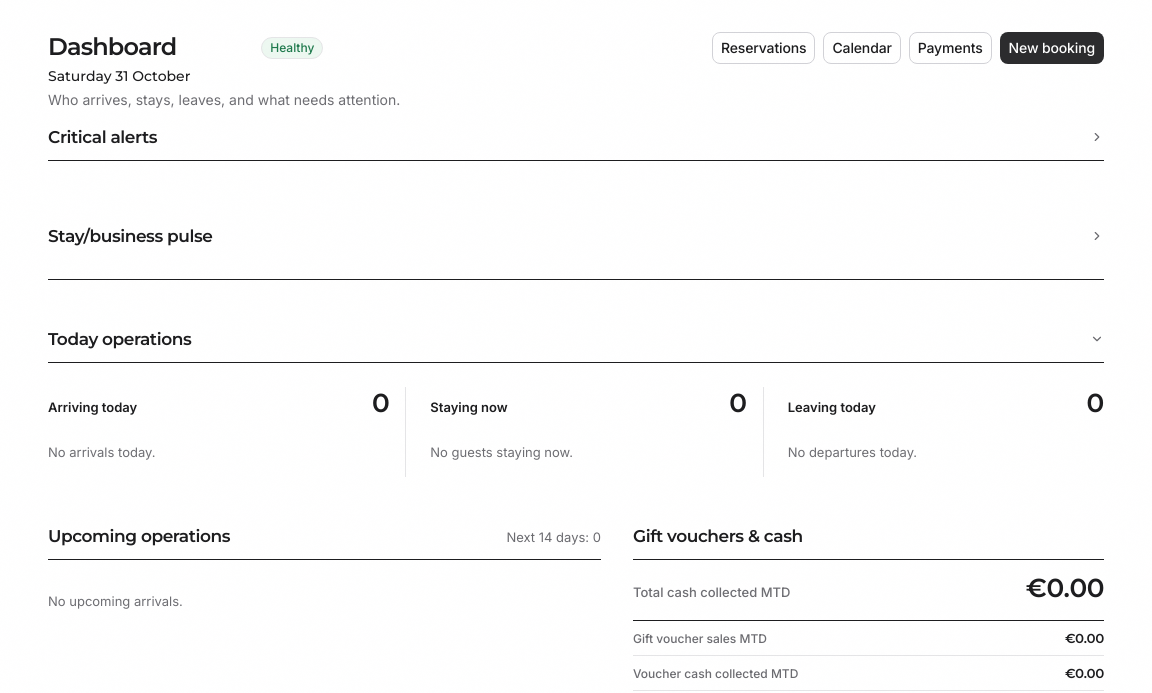
Test: OpsDashboard home migration › keeps Resolve on manual-review alerts and reloads dashboard after the shared note payload
Click the button "Critical alerts" at (103, 137), box top-left (48, 126), bottom-right (1104, 161)
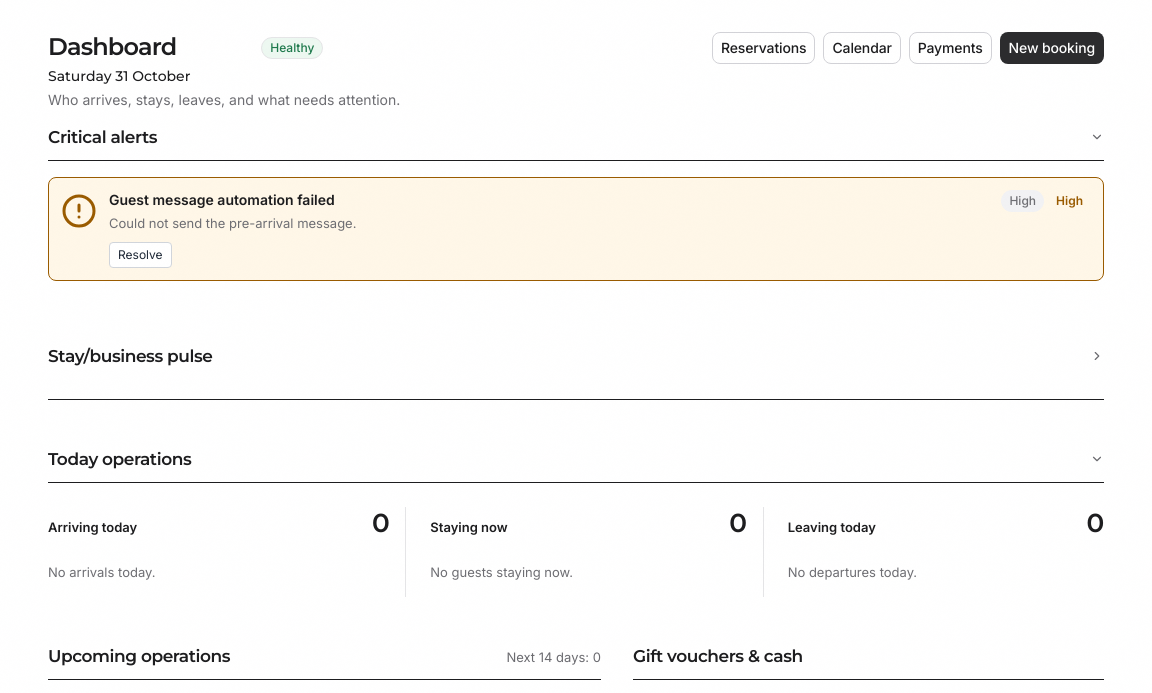
Click the button "Stay/business pulse" at (130, 356), box top-left (48, 345), bottom-right (1104, 367)
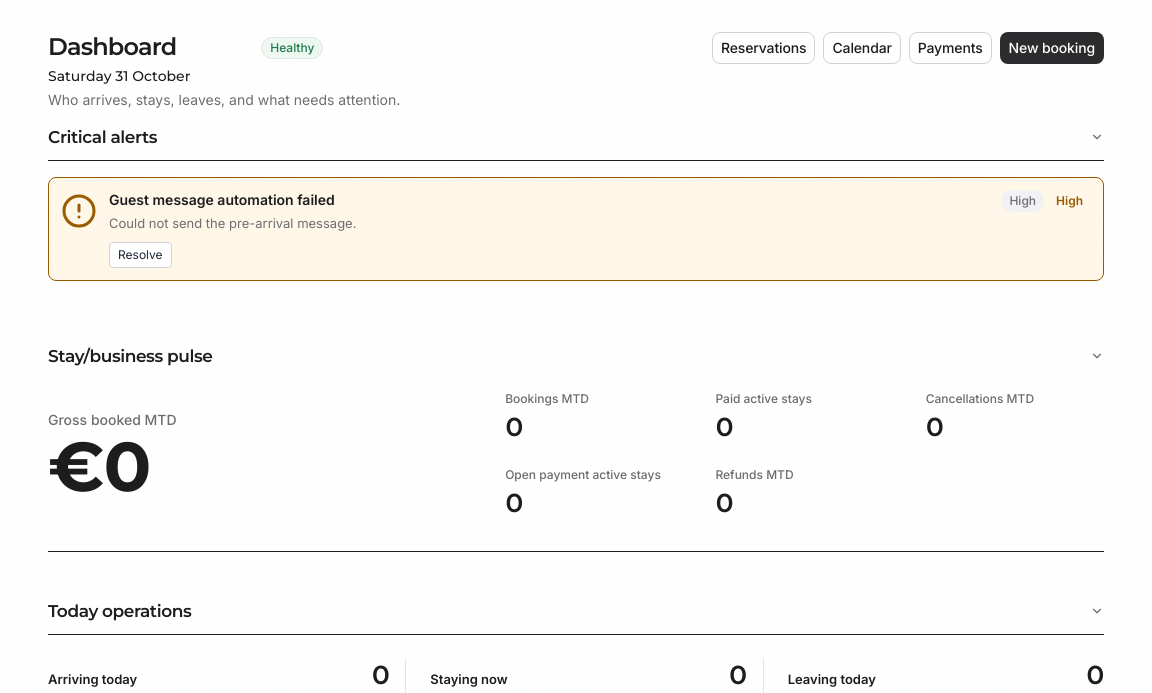
expect the text "Guest message automation failed" is shown: met, box top-left (109, 191), bottom-right (335, 208)
expect the button "Resolve" is shown: met
Click the button "Resolve" at (140, 255), box top-left (109, 242), bottom-right (172, 268)
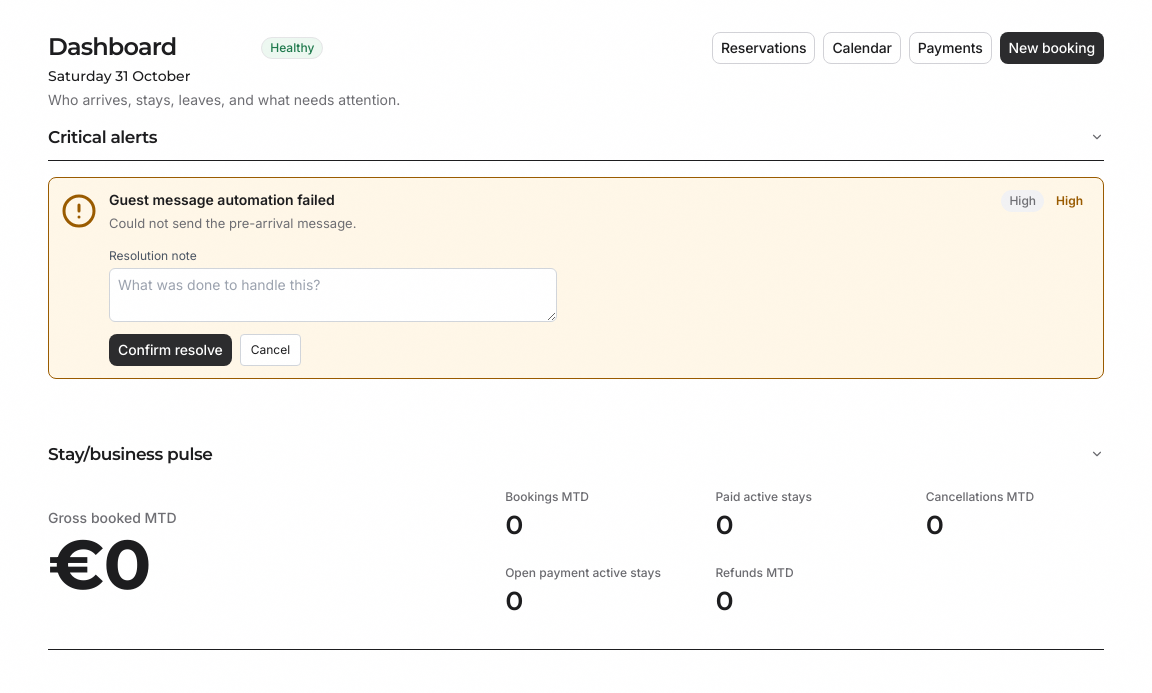
Type "Emailed the guest and closed the thread." into the text box with placeholder "What was done to handle this?" at (333, 295), box top-left (109, 268), bottom-right (557, 322)
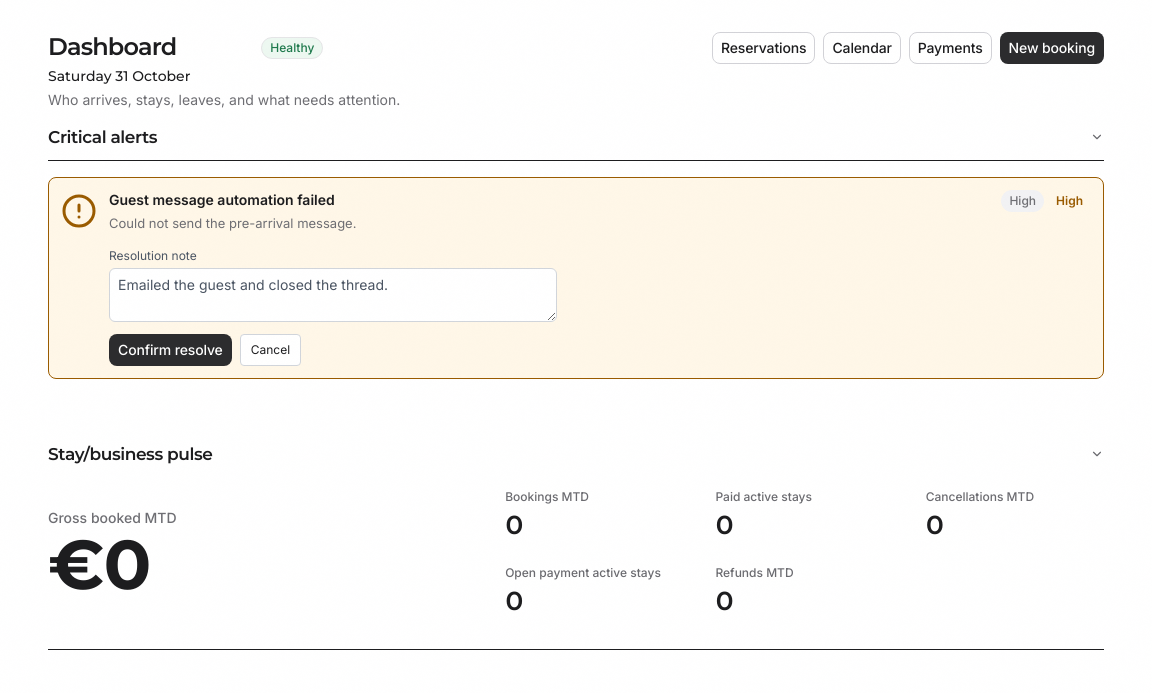
Click the button "Confirm resolve" at (170, 350), box top-left (109, 334), bottom-right (232, 366)
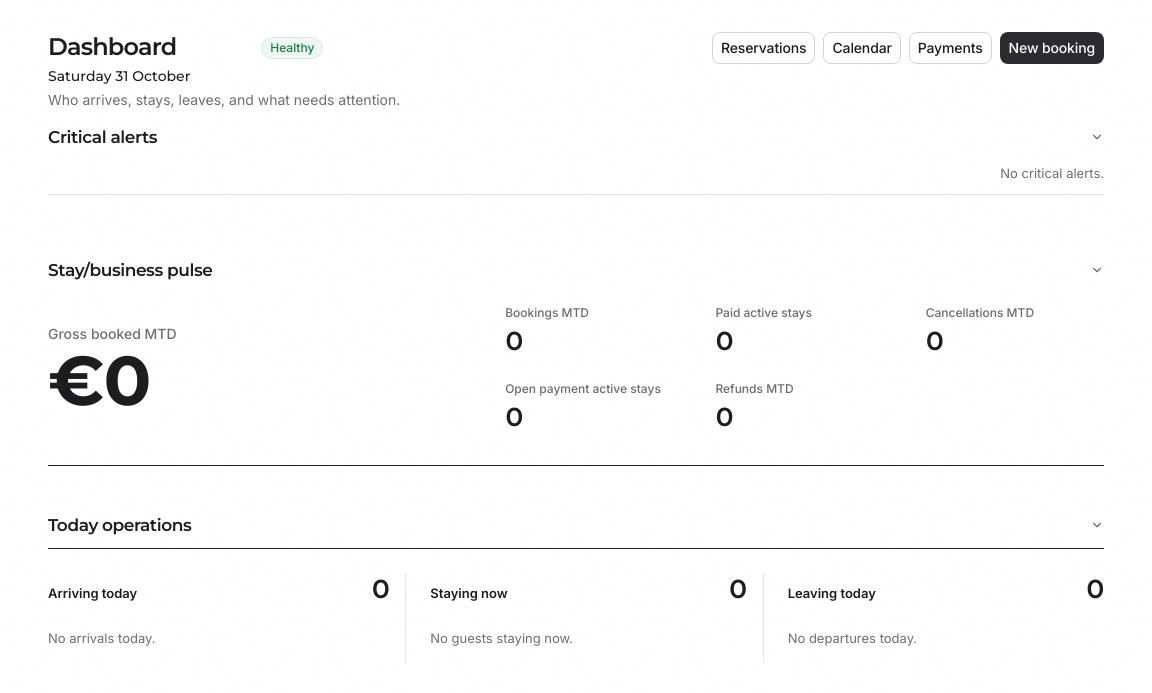
expect the link "Guest message automation failed" is gone: met
expect the text "No critical alerts." is shown: met, box top-left (1000, 165), bottom-right (1104, 181)
